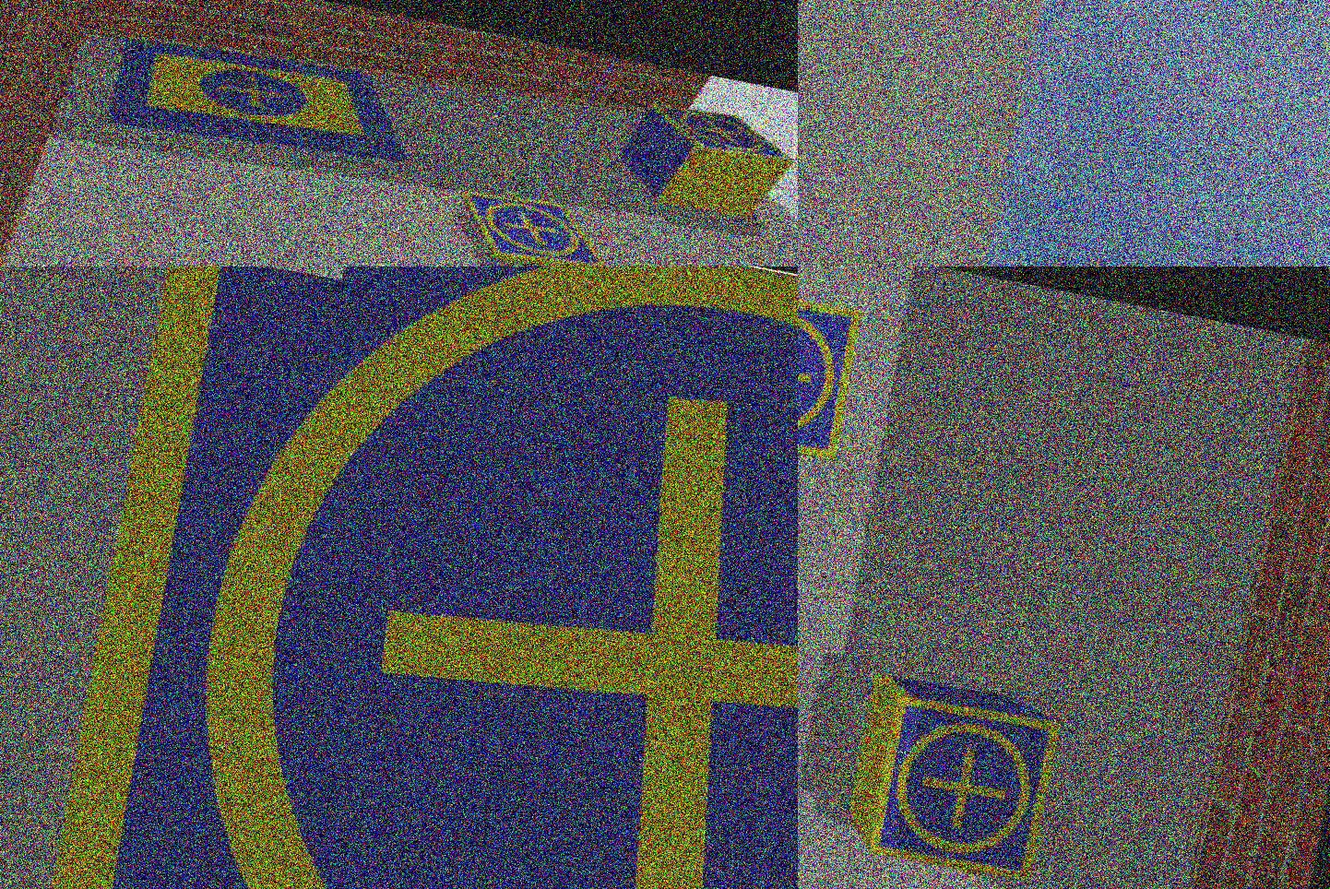large_base: (21, 267, 798, 889), (109, 28, 421, 172)
small_base: (864, 691, 1063, 889), (450, 183, 620, 267), (798, 282, 864, 465), (649, 104, 798, 172)
